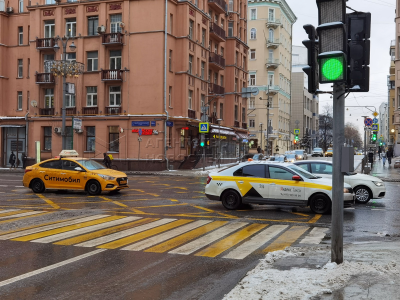crosswalk: (198, 122, 209, 133), (370, 124, 379, 132)
priority_road: (372, 110, 379, 119)
trafficlight_green: (319, 1, 344, 81)
